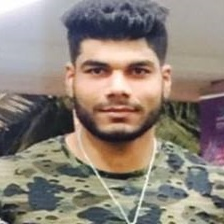no_mask: (77, 34, 161, 142)
